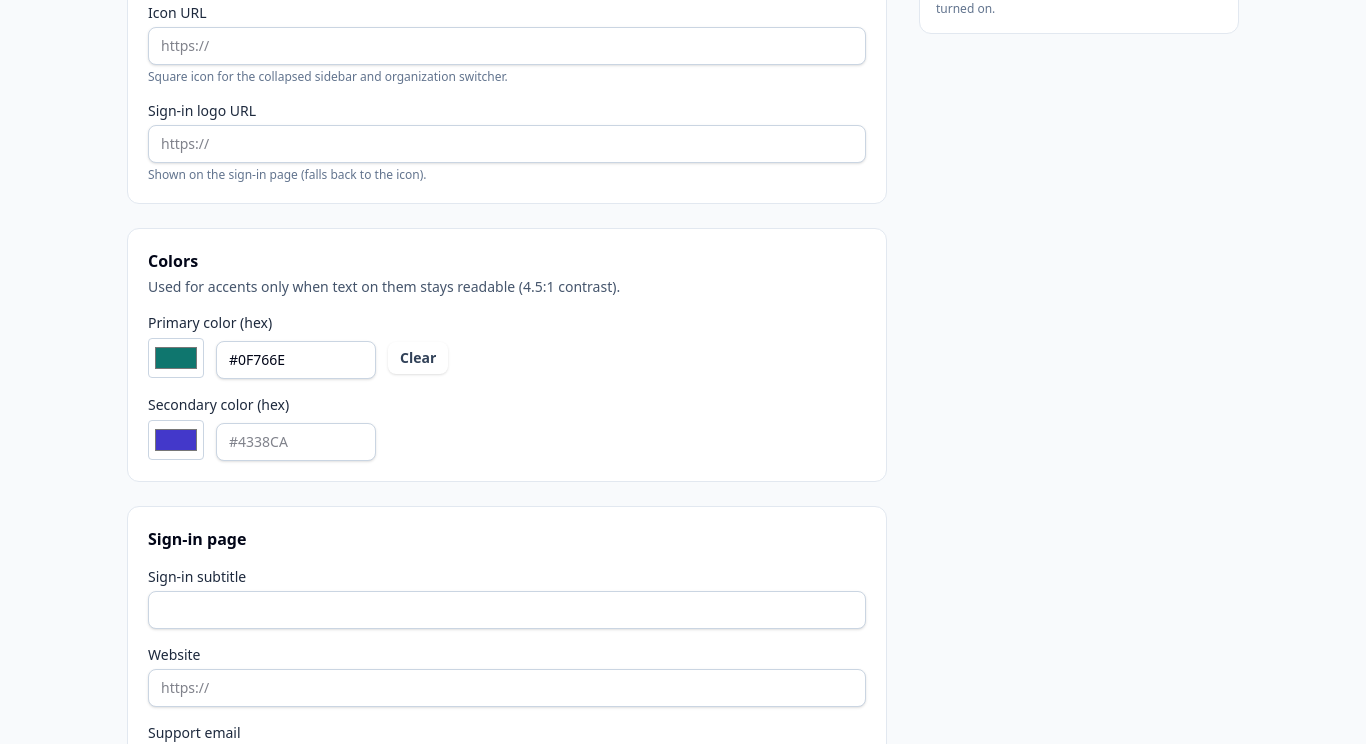
Test case: BrandingSettingsPage › warns and keeps the default accent when the primary color has poor contrast
(page scrolled)
Step 1. Replace the text in the field labelled "Primary color (hex)" with "#777777" → (296, 360), box [216,341,376,379]
(page scrolled)
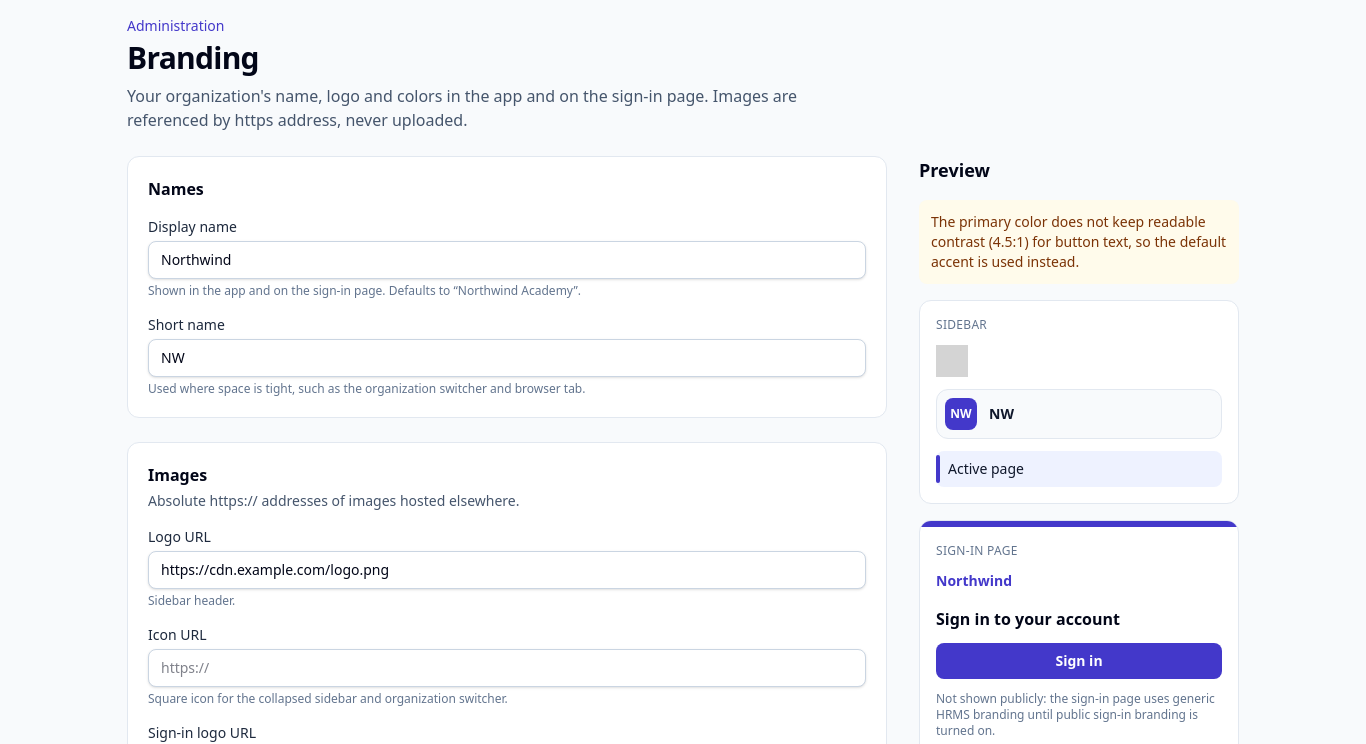
Expected: the text "does not keep readable contrast" is shown, [931,212,1226,271]
